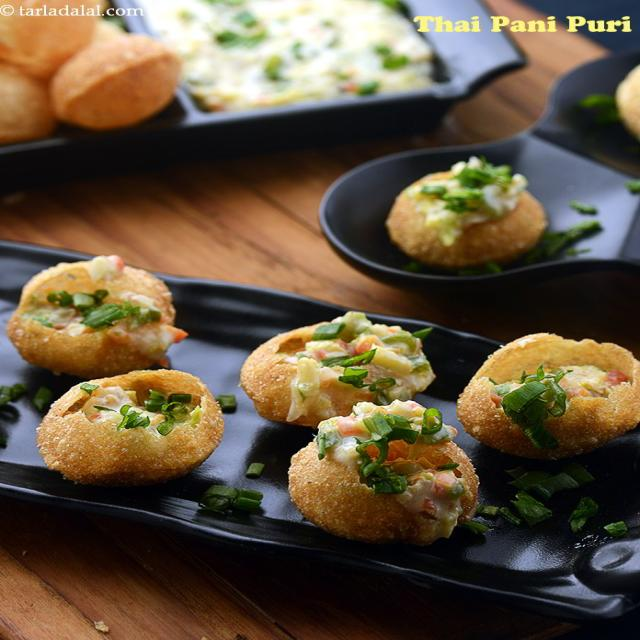paani_puri: (37, 248, 637, 568)
